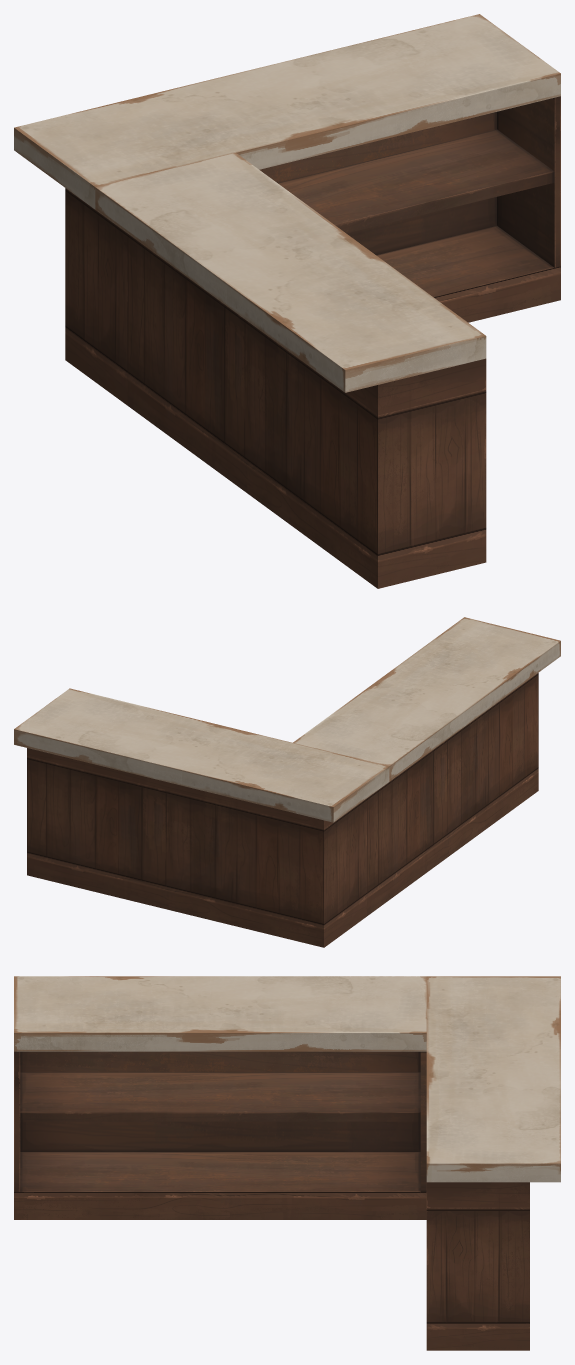
Rendered from store_counter02_corner.fbx.
The picture shows the model from 3 angles, top to bottom: view 1: azimuth 30°, elevation 25°; view 2: azimuth 150°, elevation 25°; view 3: azimuth 270°, elevation 25°; orthographic projection. The views are drawn at different scales.
Parts seen in each view (by area): view 1: store_counter02_corner; view 2: store_counter02_corner; view 3: store_counter02_corner.
Part boxes in pixels (<box>): store_counter02_corner: <box>14,14,560,588</box>; store_counter02_corner: <box>14,617,560,947</box>; store_counter02_corner: <box>14,976,560,1350</box>.
Size of the model in its own units: 215 by 100 by 265.
